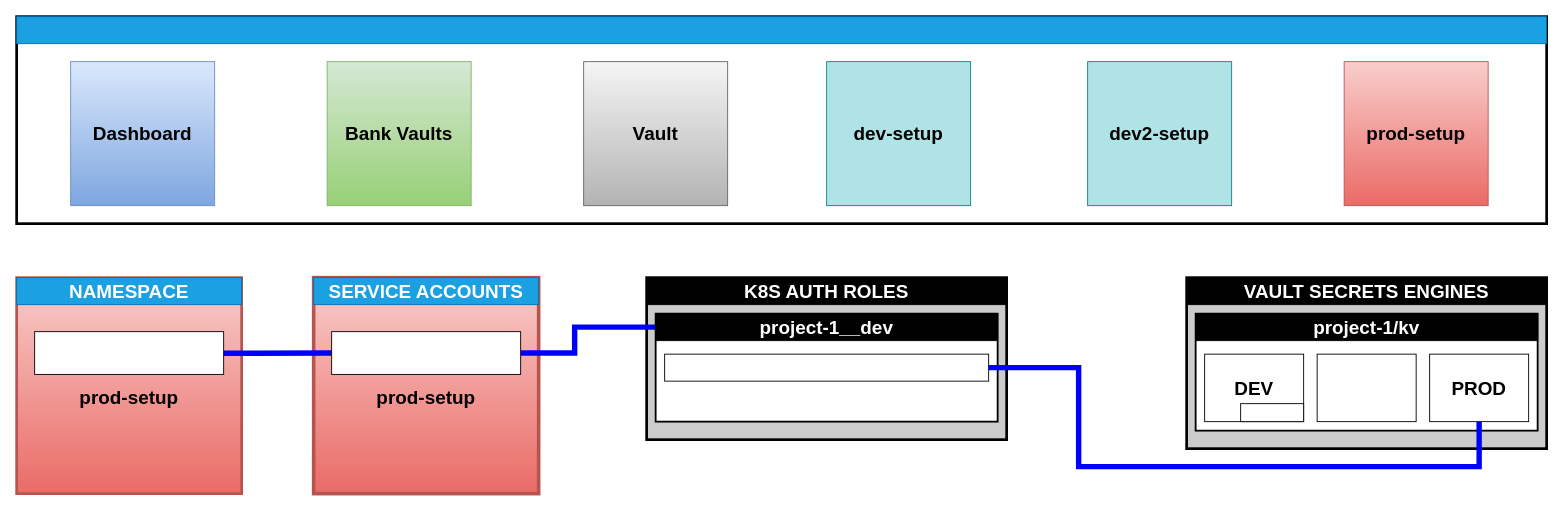
The diagram is 1563 pixels wide and 511 high, and some of its shapes have lost their labels. The centre of each missing label's shape, as x and y in pixels:
"DB CREDS" belongs at pixel 1272 412.
"default" belongs at pixel 426 352.
"NAMESPACES" belongs at pixel 781 30.
"project-1-prod-app" belongs at pixel 129 352.
"project-1__prod-ro" belongs at pixel 826 367.
"STAGE" belongs at pixel 1366 387.
